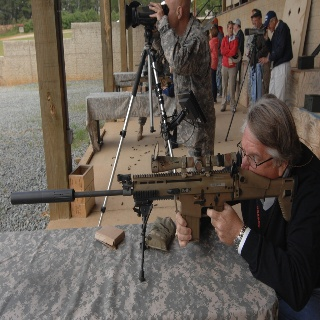rifle: (8, 142, 297, 286)
